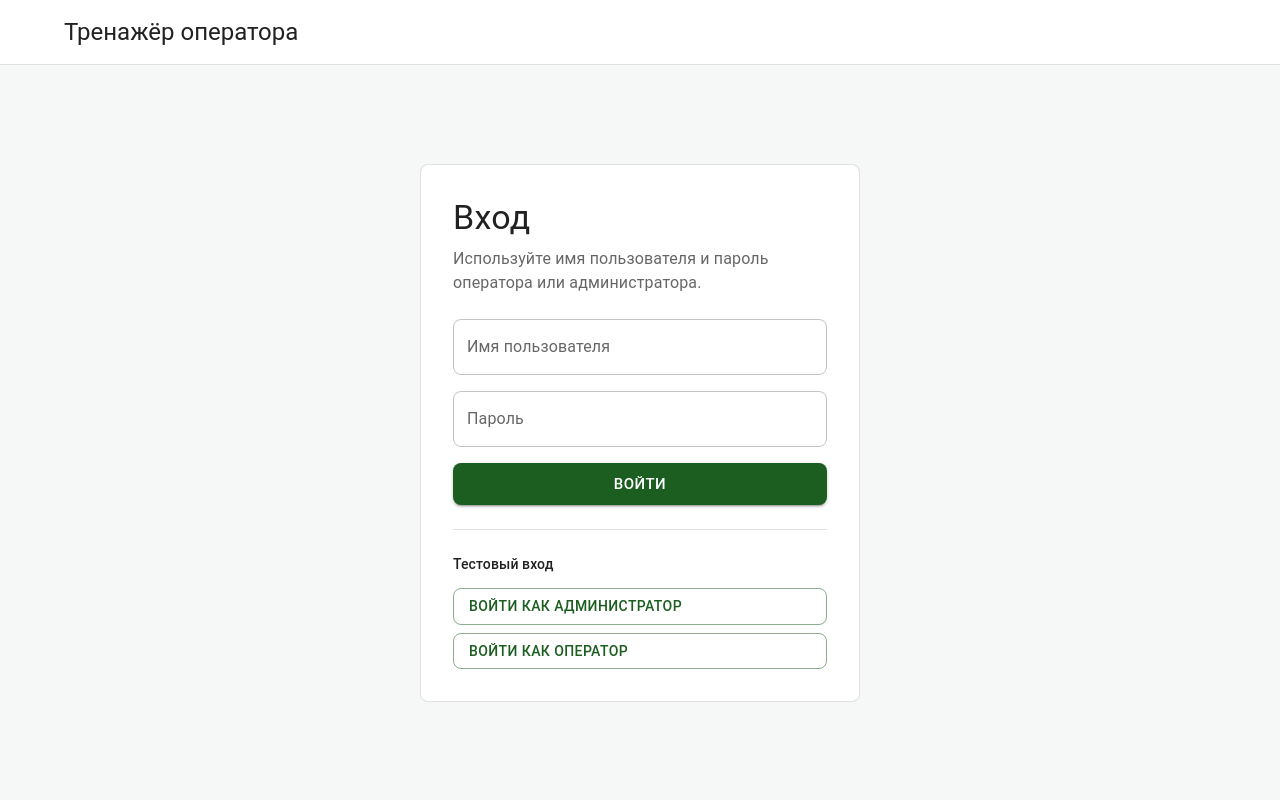
auth flow › logs in with the e2e operator shortcut
Click the button "Войти как оператор".
click(549, 651)  # box 453,633 -> 827,669
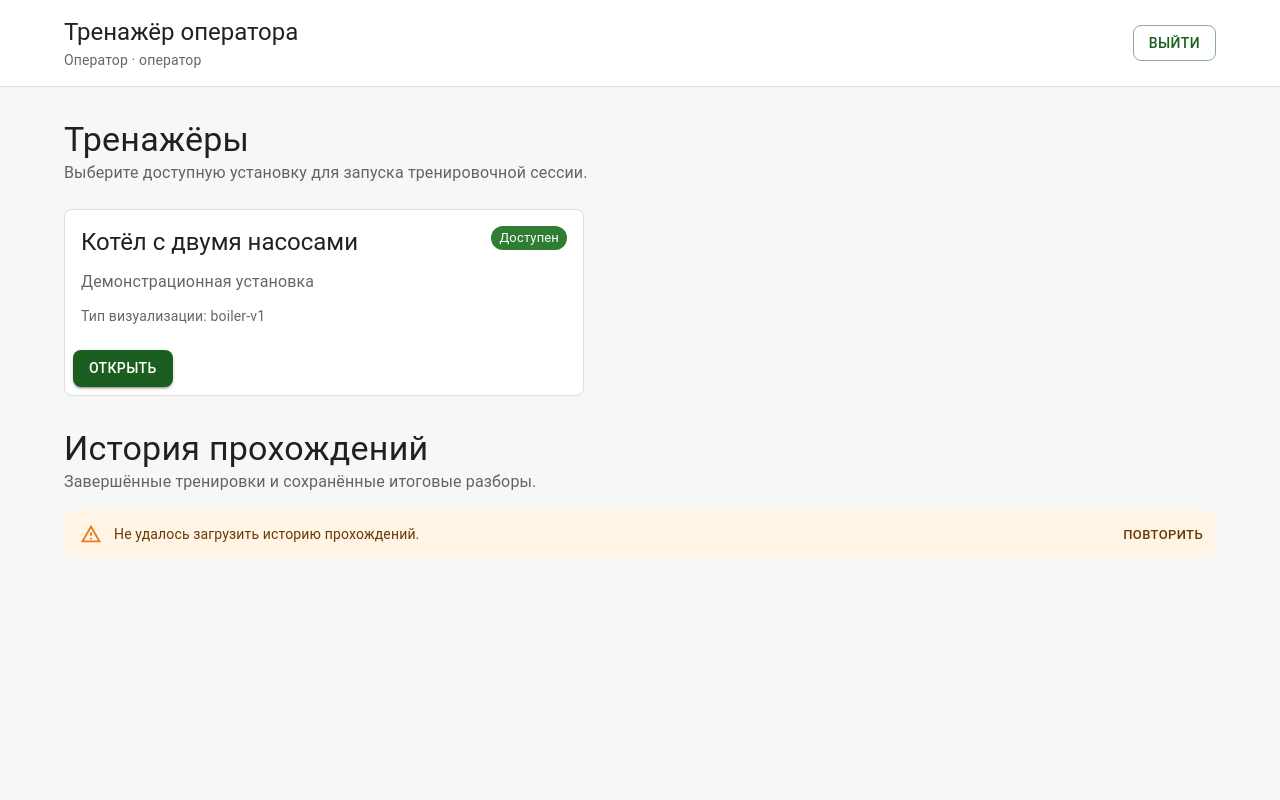
Now the heading "Тренажёры" is shown, box 64,119 -> 249,159
